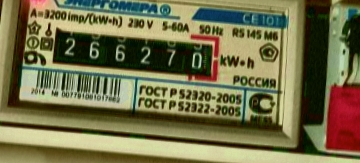0: (187, 47, 203, 68)
2: (61, 33, 76, 55), (137, 43, 152, 64)
6: (111, 40, 126, 60), (86, 37, 99, 59)
7: (163, 45, 175, 65)
screen: (38, 14, 226, 86)
